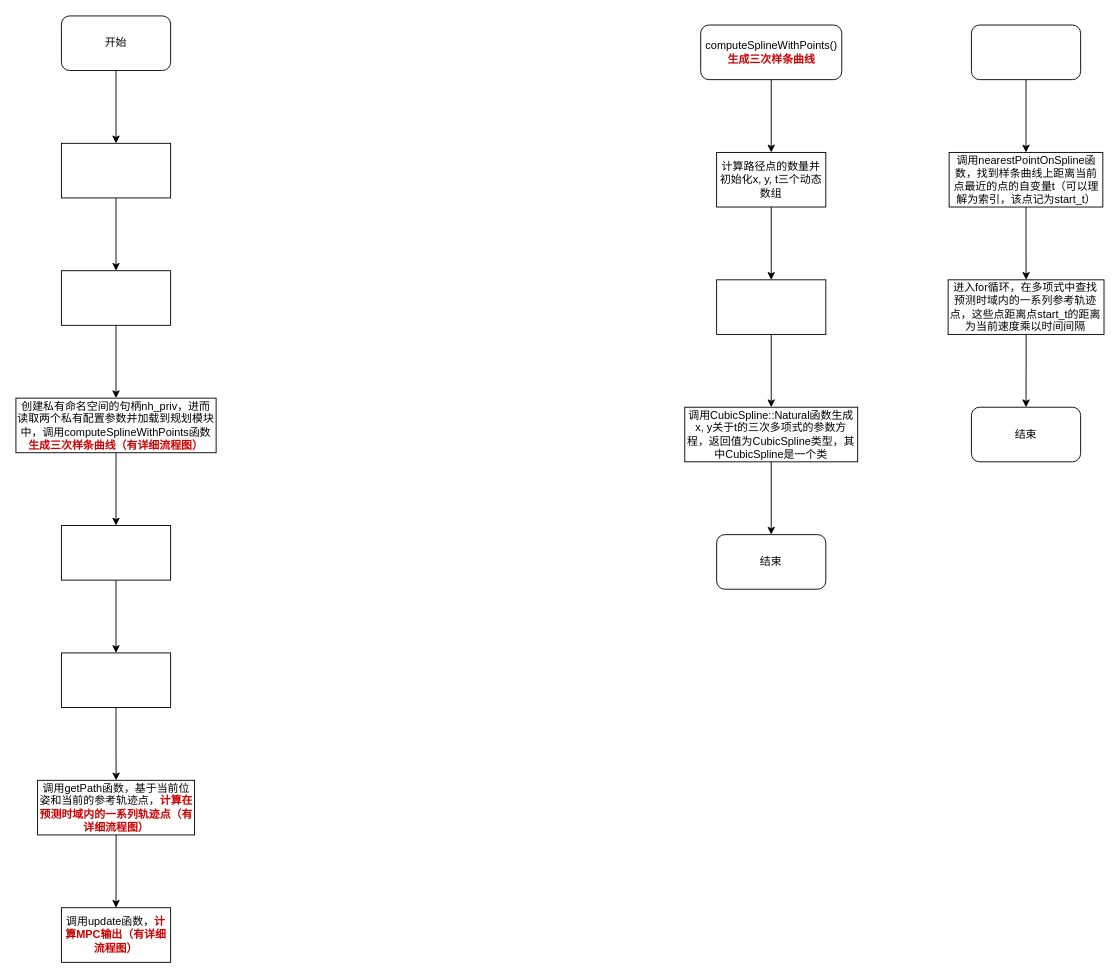
This 1120x978 diagram has some shape labels left out. Each missing label, with the centre of its shape:
"getPath() 计算在预测时域内的一系列轨迹点" goes at point (1026, 52).
"主循环开始" goes at point (116, 680).
"创建公共命名空间的句柄nh，进而创建发布者和订阅者" goes at point (116, 297).
"初始化ros节点为controller_mpc" goes at point (116, 170).
"将路径点的x, y插入到数组中，t自加表示路径点的索引" goes at point (771, 306).
"重置仿真器，初始化MPC参数、车辆模型参数、边界条件、MPC代价函数的权重" goes at point (116, 552).
